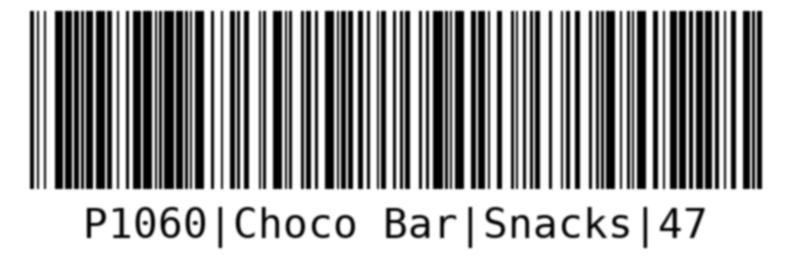milk: (25, 8, 767, 261)
